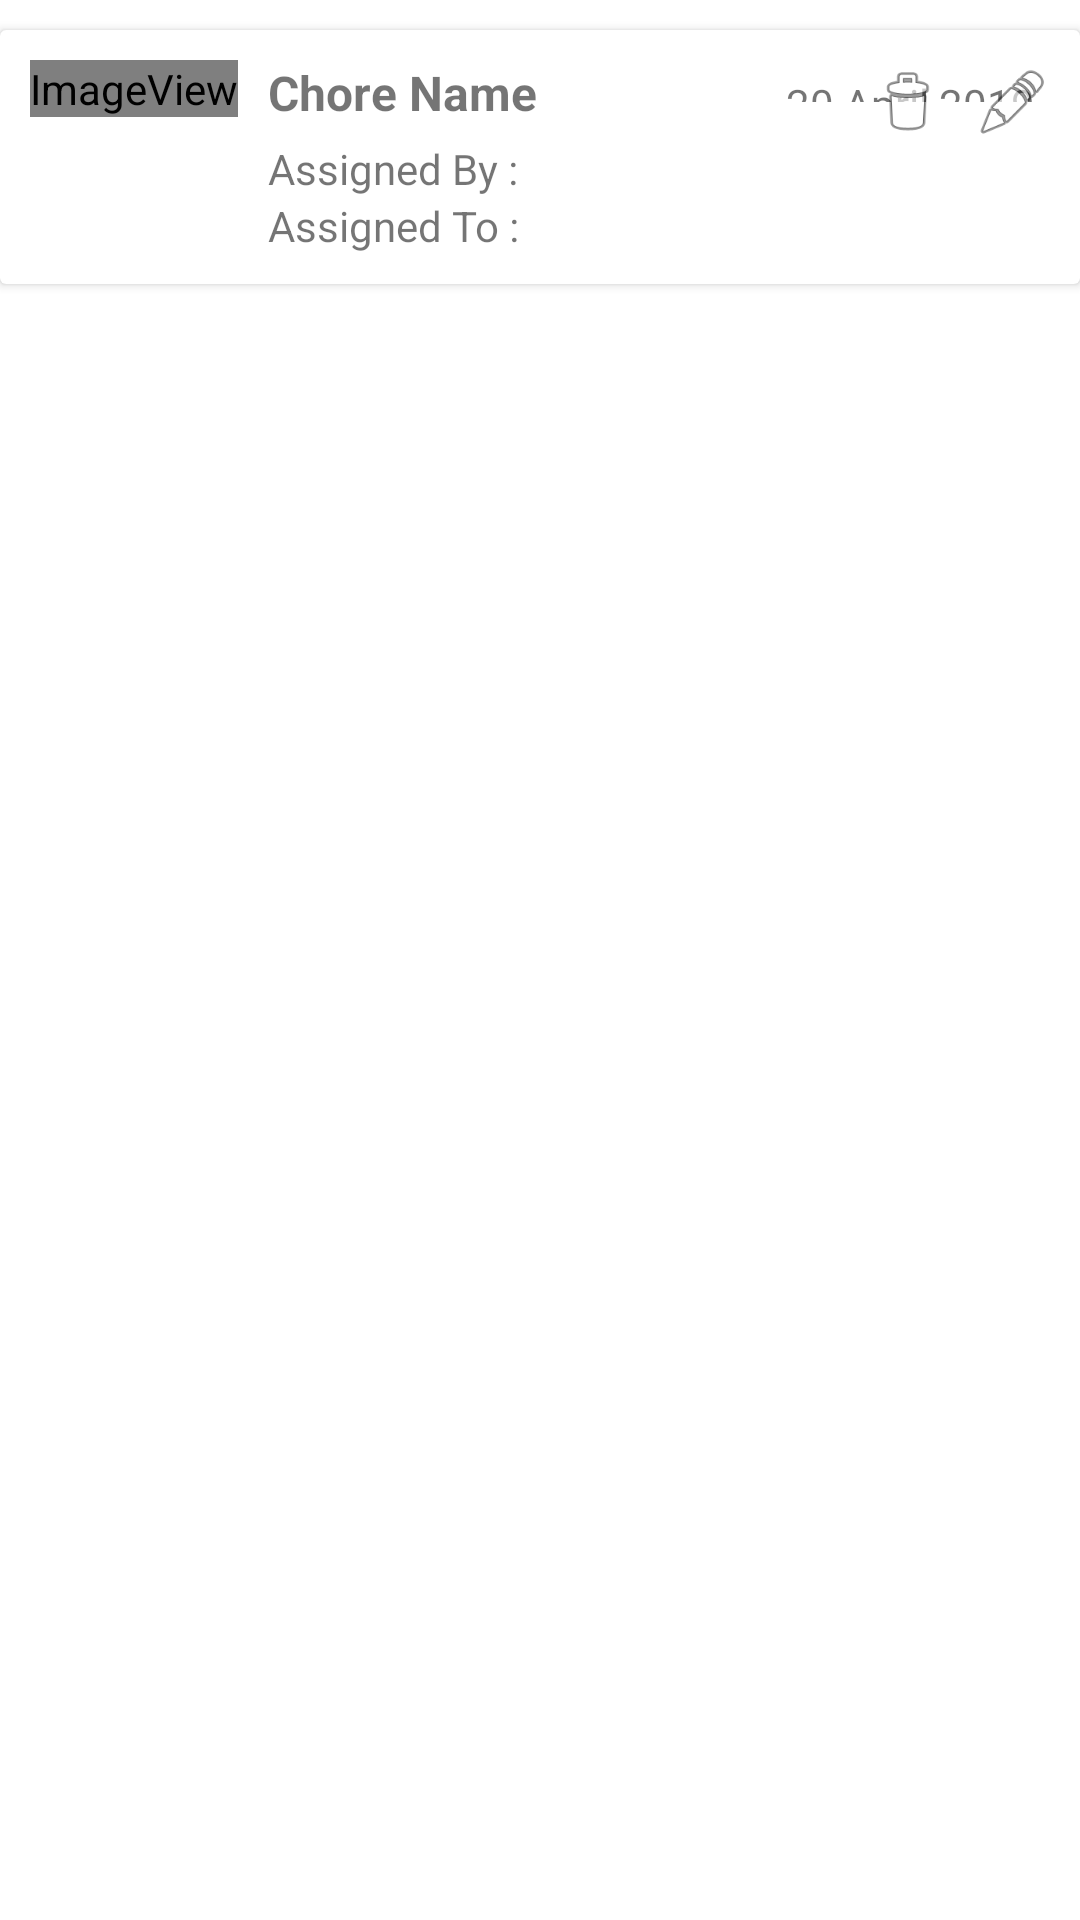

Point at icon controls on the screen. Image size 1080*1920, points as (x,y).
delete: (901,101)
edit: (1012,102)
